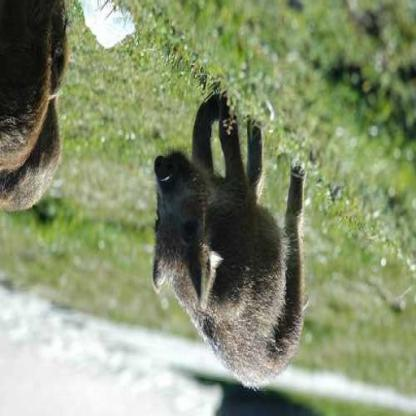boar: (132, 104, 361, 385)
